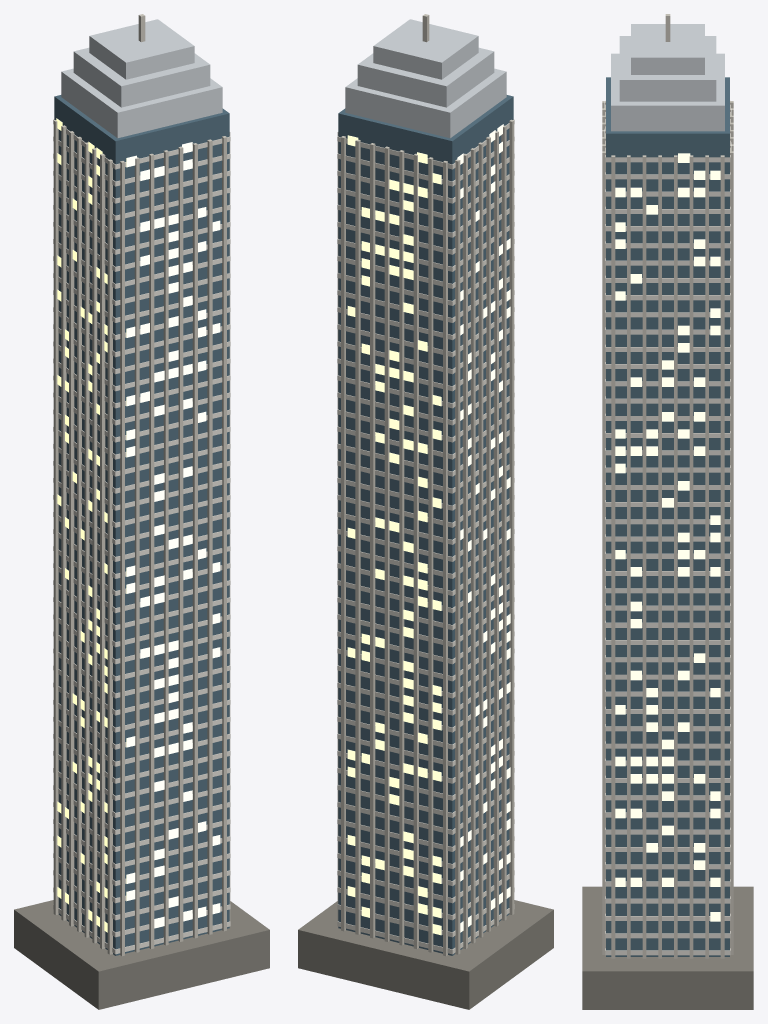
The model's file is zalmhaventoren.glb.
The picture shows the model from 3 angles, left to right: view 1: azimuth 30°, elevation 25°; view 2: azimuth 150°, elevation 25°; view 3: azimuth 270°, elevation 25°; orthographic projection.
Visible parts, largest first — view 1: romp, plint, licht-1-licht, kroon0, lamelz0-14.4, lamel6-13.4, lamel4-13.4, lamel2-13.4, lamelz7-14.4, lamel5-13.4, lamel1-13.4, lamelz3-14.4 (+19 smaller); view 2: romp, plint, licht1-licht, kroon0, lamelz7-14.4, lamel613.4, lamel413.4, lamel213.4, lamelz0-14.4, lamelz4-14.4, lamel513.4, lamelz5-14.4 (+17 smaller); view 3: romp, plint, lichtz1-licht, kroon0, lamelz014.4, lamelz214.4, lamelz714.4, lamelz514.4, kroon2, kroon1, lamelz114.4, lamelz314.4 (+39 smaller).
Part boxes in pixels (bbox=[...]): romp: bbox=[54, 95, 229, 955]; plint: bbox=[14, 900, 269, 1009]; licht-1-licht: bbox=[126, 142, 220, 928]; kroon0: bbox=[61, 68, 222, 138]; lamelz0-14.4: bbox=[107, 159, 112, 954]; lamel6-13.4: bbox=[207, 139, 212, 934]; lamel4-13.4: bbox=[178, 146, 183, 941]; lamel2-13.4: bbox=[149, 153, 154, 948]; lamelz7-14.4: bbox=[53, 120, 58, 915]; lamel5-13.4: bbox=[192, 143, 197, 938]; lamel1-13.4: bbox=[134, 157, 139, 952]; lamelz3-14.4: bbox=[84, 142, 89, 937]; romp: bbox=[338, 95, 513, 955]; plint: bbox=[298, 900, 553, 1009]; licht1-licht: bbox=[347, 135, 441, 935]; kroon0: bbox=[345, 68, 506, 138]; lamelz7-14.4: bbox=[455, 159, 460, 954]; lamel613.4: bbox=[355, 139, 360, 934]; lamel413.4: bbox=[384, 146, 389, 941]; lamel213.4: bbox=[413, 153, 418, 948]; lamelz0-14.4: bbox=[509, 119, 514, 915]; lamelz4-14.4: bbox=[478, 142, 483, 937]; lamel513.4: bbox=[370, 143, 375, 938]; lamelz5-14.4: bbox=[470, 148, 475, 943]; romp: bbox=[606, 77, 729, 956]; plint: bbox=[582, 886, 753, 1009]; lichtz1-licht: bbox=[615, 153, 720, 921]; kroon0: bbox=[611, 53, 724, 131]; lamelz014.4: bbox=[611, 155, 615, 958]; lamelz214.4: bbox=[642, 155, 646, 958]; lamelz714.4: bbox=[720, 155, 724, 958]; lamelz514.4: bbox=[689, 155, 693, 958]; kroon2: bbox=[631, 24, 704, 74]; kroon1: bbox=[619, 36, 716, 101]; lamelz114.4: bbox=[627, 155, 630, 958]; lamelz314.4: bbox=[658, 155, 661, 958].
Size of the model in its own units: 42 by 221 by 36.
